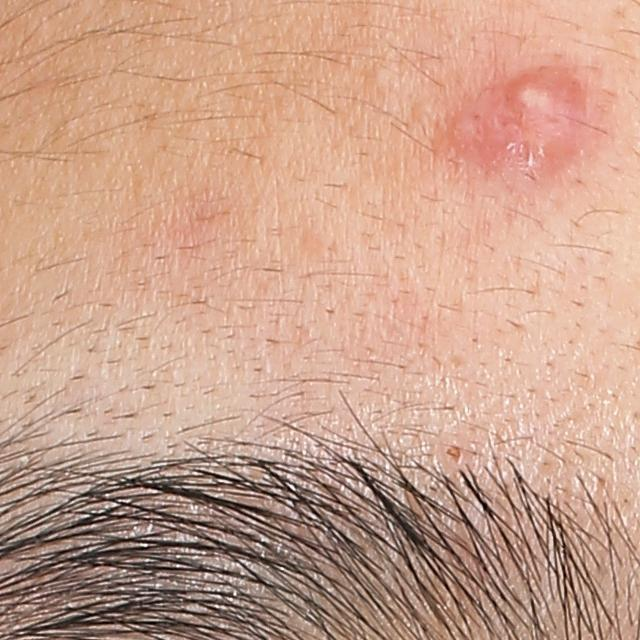comedo: (365, 60, 393, 90), (439, 439, 468, 464)
pustule: (512, 64, 593, 163)
